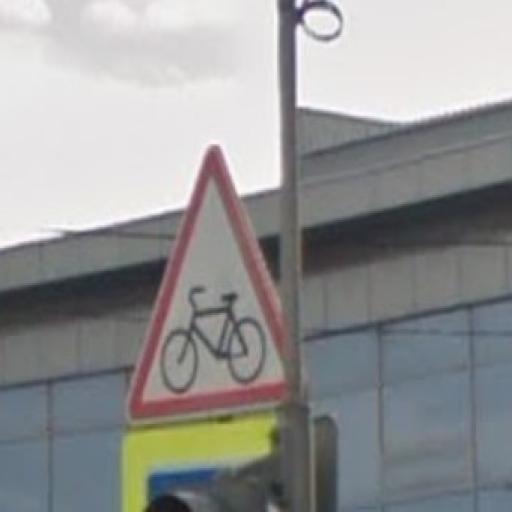traffic_sign: (123, 144, 308, 429)
